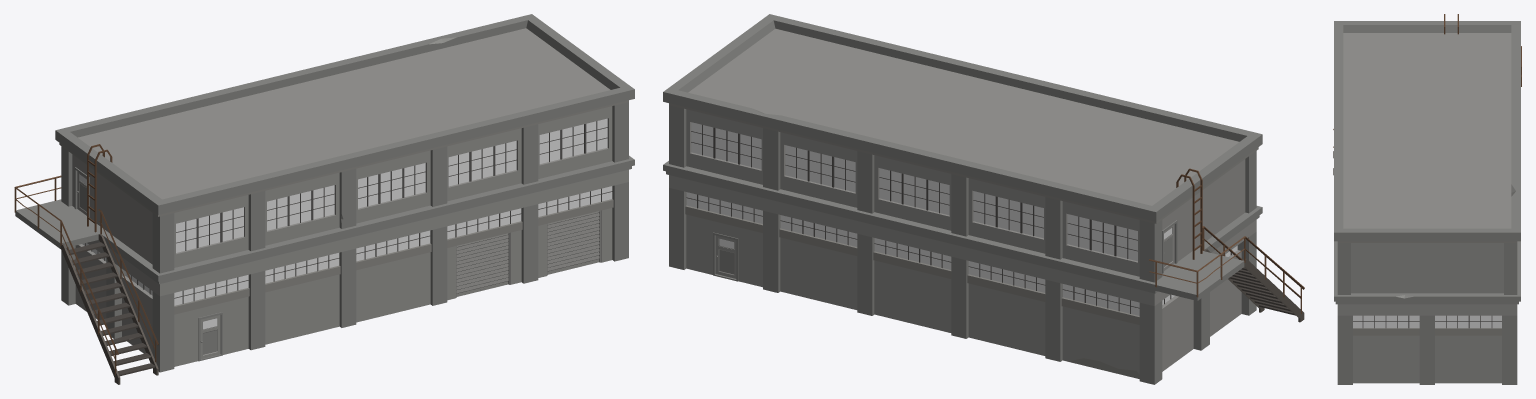
File: SM_Bldg_City_Industrial_04.fbx
The picture shows the model from 3 angles, left to right: view 1: azimuth 30°, elevation 25°; view 2: azimuth 150°, elevation 25°; view 3: azimuth 270°, elevation 25°; orthographic projection. The views are drawn at different scales.
Parts seen in each view (by area): view 1: SM_Bldg_City_Industrial_04; view 2: SM_Bldg_City_Industrial_04; view 3: SM_Bldg_City_Industrial_04.
Part boxes in pixels (left/top/right/bottom): SM_Bldg_City_Industrial_04: left=14, top=14, right=634, bottom=384; SM_Bldg_City_Industrial_04: left=663, top=14, right=1304, bottom=384; SM_Bldg_City_Industrial_04: left=1333, top=14, right=1521, bottom=384.
Bounding box in the file's own units: 2845 × 936 × 989.
